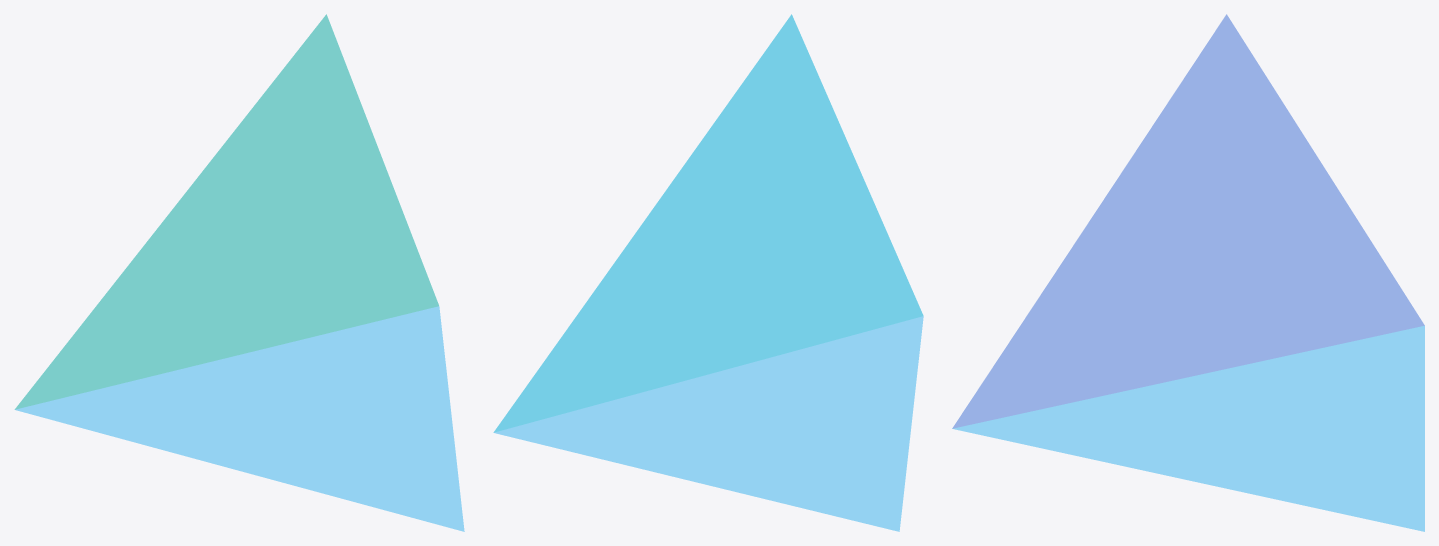
File: nav-beacon.gltf
3 views of the same model, side by side, from view 1: azimuth 30°, elevation 25°; view 2: azimuth 150°, elevation 25°; view 3: azimuth 270°, elevation 25° (orthographic). The views are drawn at different scales.
Visible parts, largest first — view 1: Ancient Nav Beacon; view 2: Ancient Nav Beacon; view 3: Ancient Nav Beacon.
Boxes of the visible parts, x1,y1,x2,y2 form: Ancient Nav Beacon: (14,14,464,531); Ancient Nav Beacon: (493,14,923,531); Ancient Nav Beacon: (952,14,1424,531).
Bounding box in the file's own units: 1.6 × 1.5 × 1.55.
